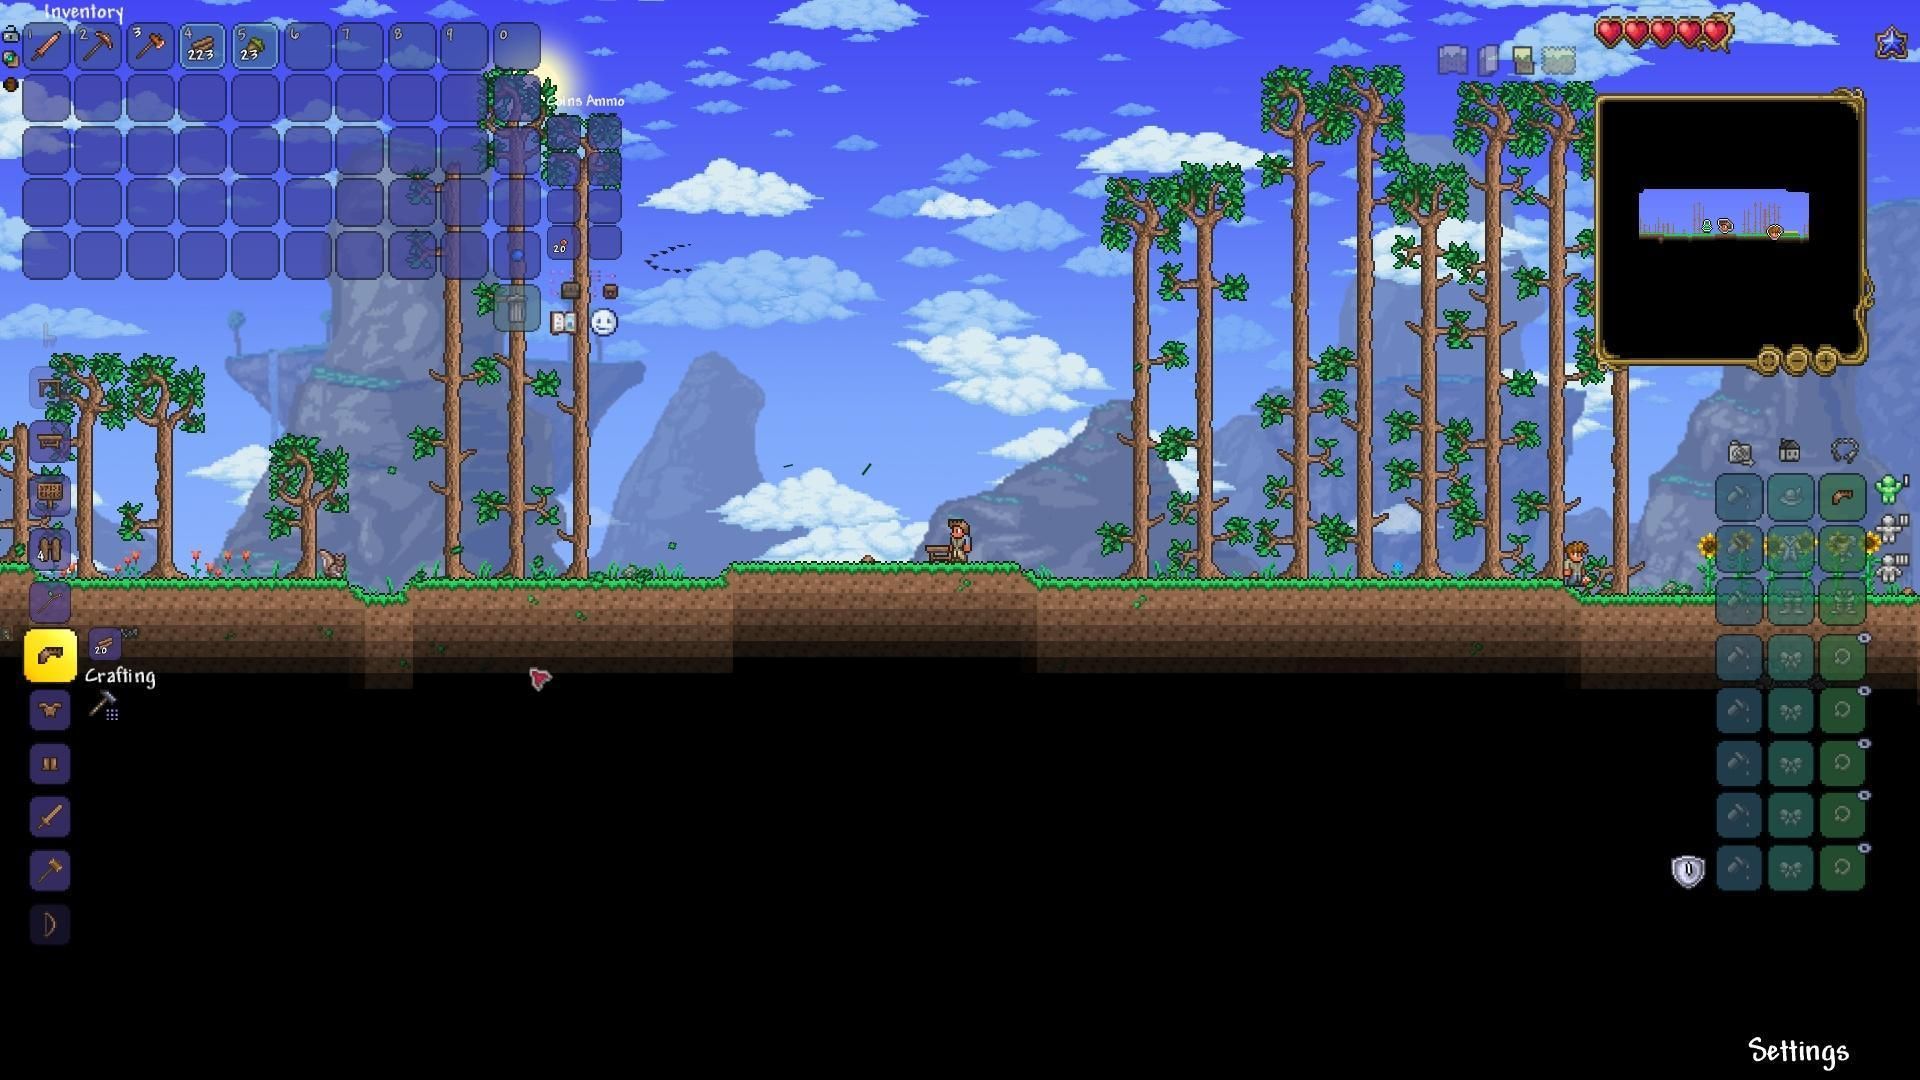breastplate: (37, 695, 65, 716)
helmet: (1826, 483, 1858, 510), (34, 644, 65, 671)
legs: (38, 750, 63, 778)
wood: (189, 32, 216, 55), (96, 632, 113, 653)
workbench: (922, 542, 959, 567)
